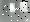person: (21, 4, 28, 16), (11, 4, 16, 13)
